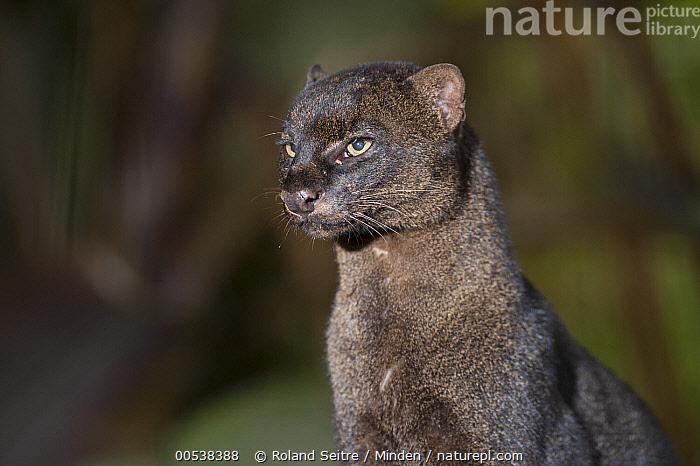Jaguarundi: (255, 53, 665, 445)
